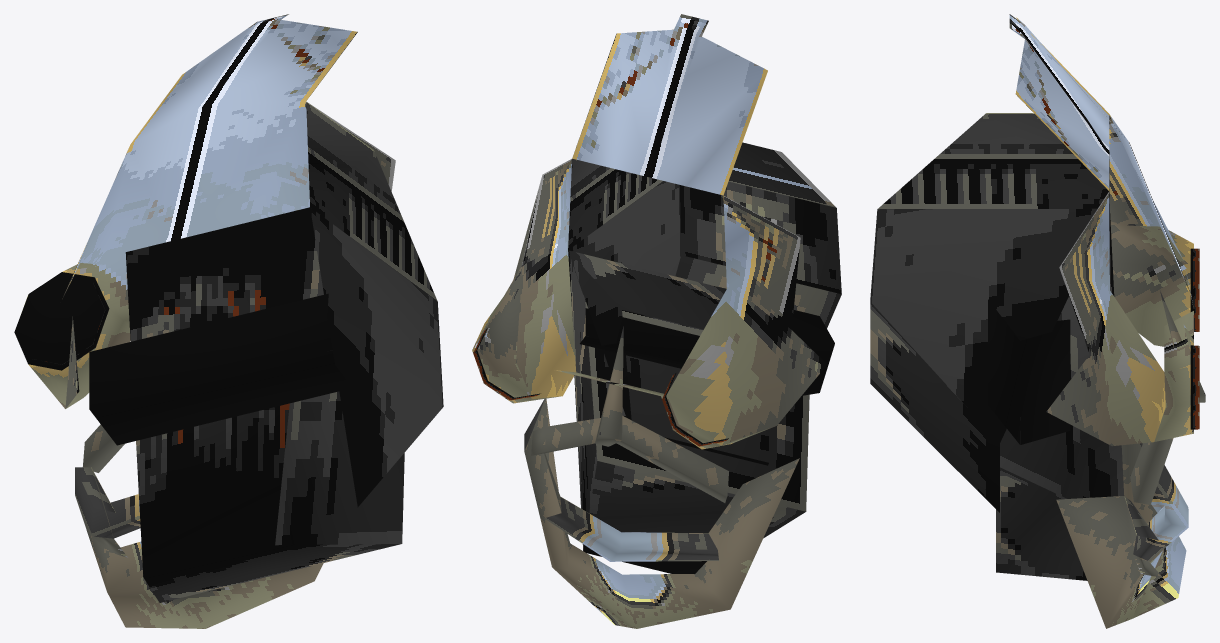
The model's file is ps2_save-icons_starwarstheforceunleashed.glb.
3 views of the same model, side by side, from view 1: azimuth 30°, elevation 25°; view 2: azimuth 150°, elevation 25°; view 3: azimuth 270°, elevation 25° (orthographic). The views are drawn at different scales.
Parts seen in each view (by area): view 1: list.icn; view 2: list.icn; view 3: list.icn.
Boxes of the visible parts, x1,y1,x2,y2 form: list.icn: [14, 14, 443, 628]; list.icn: [472, 14, 841, 628]; list.icn: [870, 14, 1205, 628].
Bounding box in the file's own units: 2.5 × 4.5 × 2.29.
Materials: 1 (1 with a texture image).
